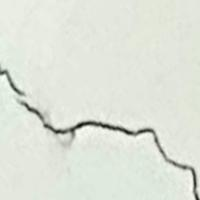crack: (1, 58, 199, 199)
